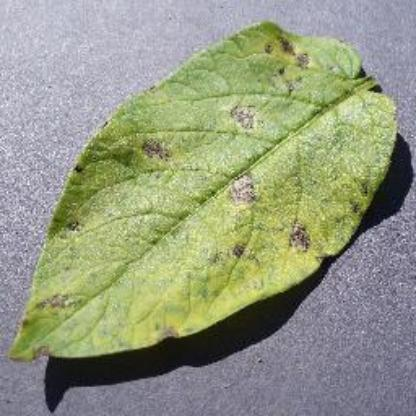Early-Blight: (14, 16, 404, 370)
